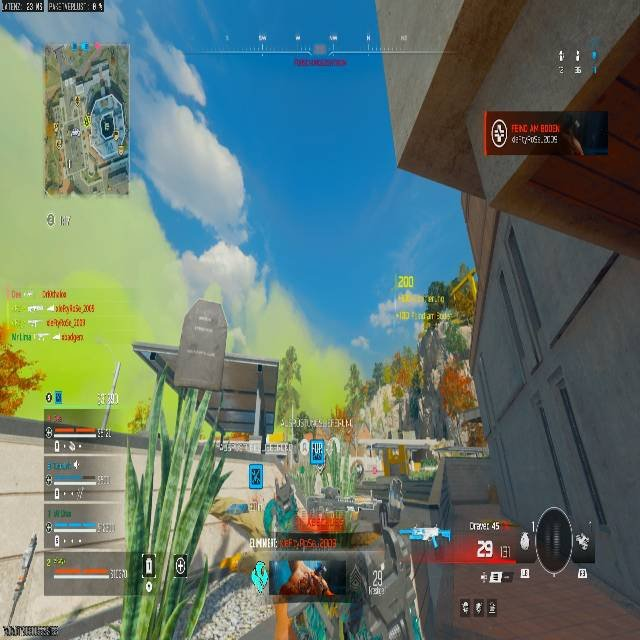player: (56, 51, 126, 164)
